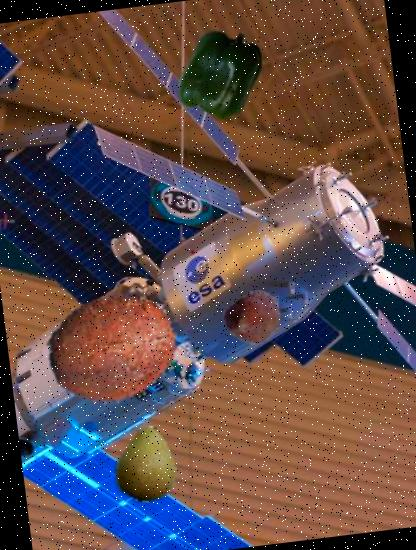Cocos: (39, 274, 189, 424)
Pear: (104, 422, 189, 506)
Pepper: (170, 24, 270, 124)
Salak: (222, 287, 286, 351)
